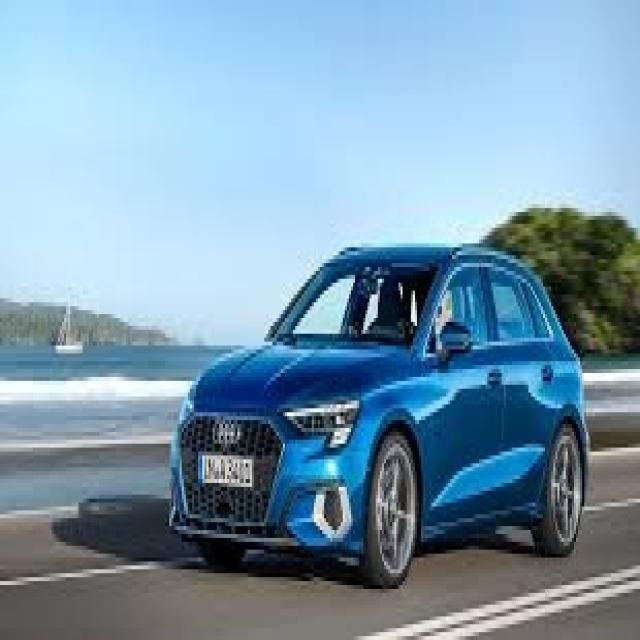blue: (154, 206, 638, 593)
